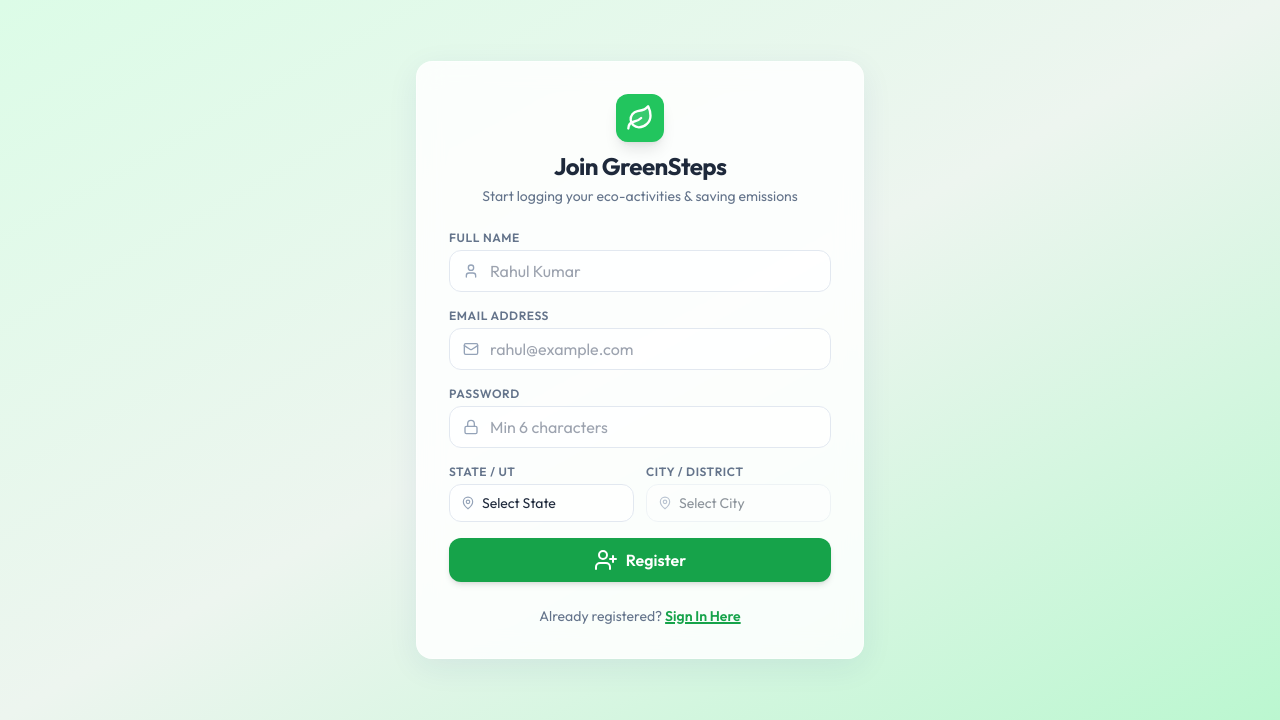
Test: Register Component › populates city options after selecting a state
Expected: the dropdown labelled "City / District" is disabled, [646,484,831,522]
Select Delhi state
Select "Delhi" in the dropdown labelled "State / UT". click: (542, 503)
box: [449,484,634,522]
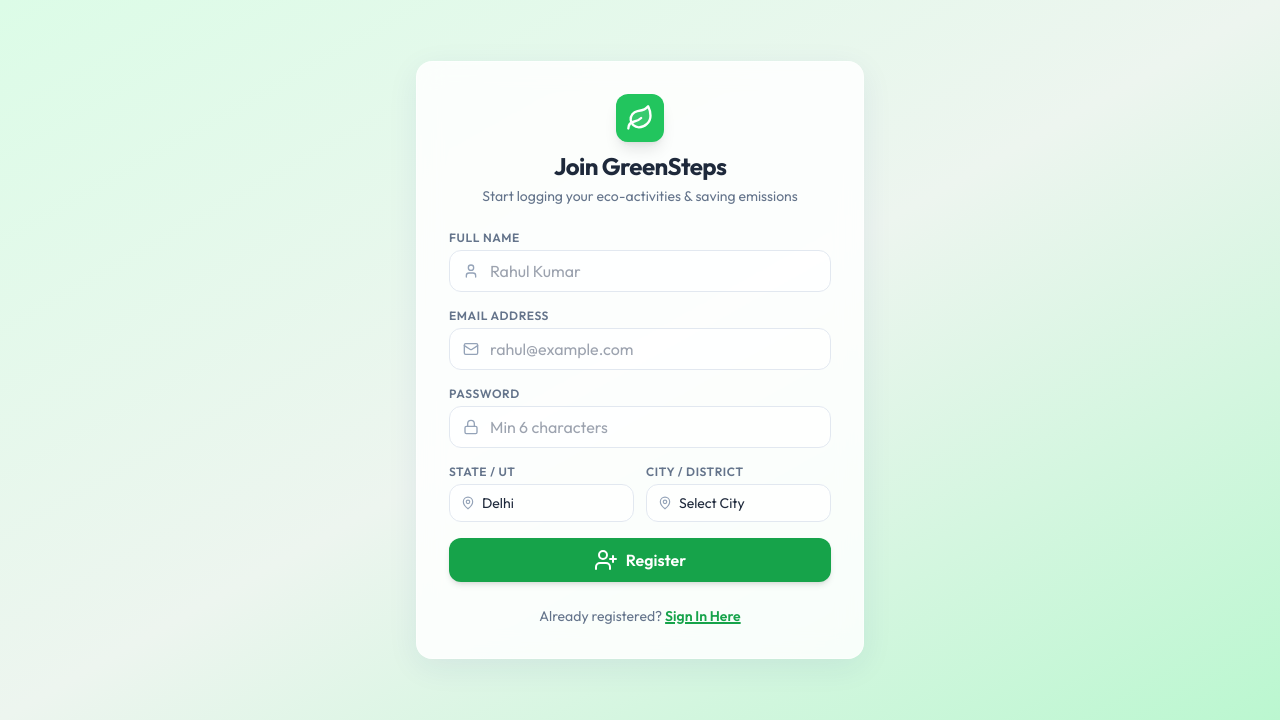
Expected: the dropdown labelled "City / District" is enabled, [646,484,831,522]
